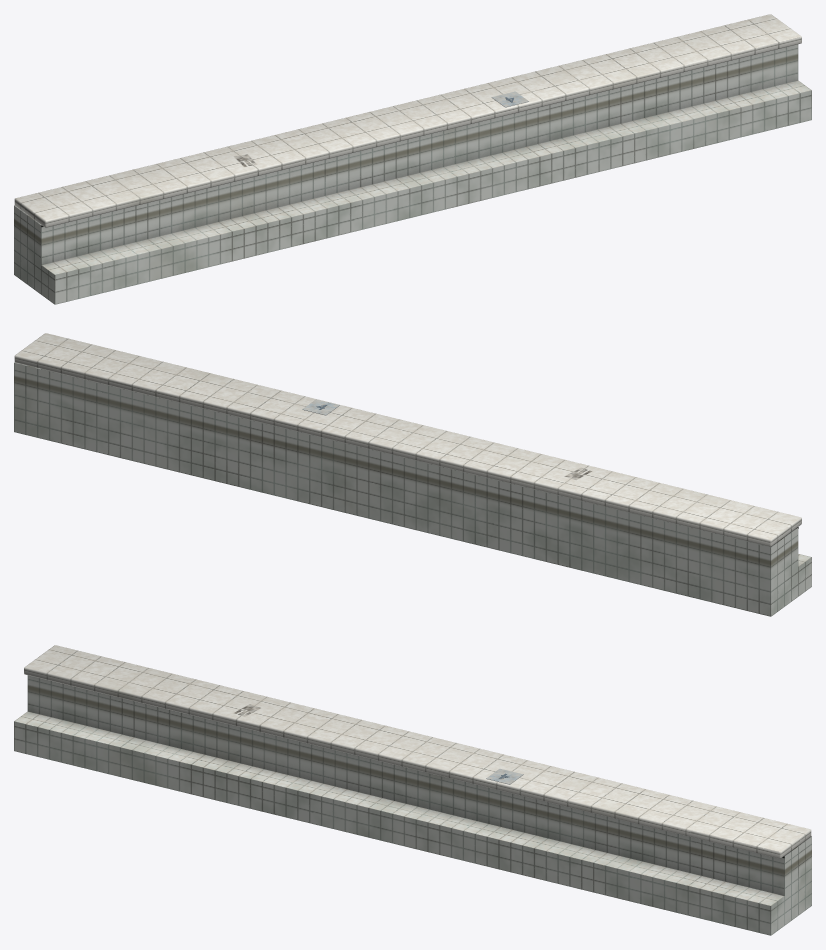
File: pool_edge.fbx
3 views of the same model, one above another, from view 1: azimuth 30°, elevation 25°; view 2: azimuth 150°, elevation 25°; view 3: azimuth 330°, elevation 25° (orthographic).
Visible parts, largest first — view 1: Body; view 2: Body; view 3: Body.
Part boxes in pixels (<box>): Body: <box>14,14,811,304</box>; Body: <box>14,333,811,616</box>; Body: <box>14,645,811,935</box>.
Bounding box in the file's own units: 32 × 3.12 × 3.
1 material, 1 textured.
